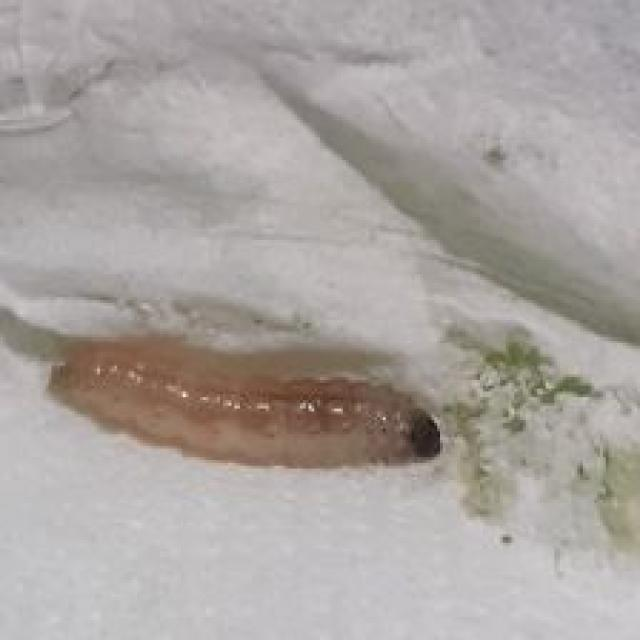white mucus: (44, 332, 451, 515)
